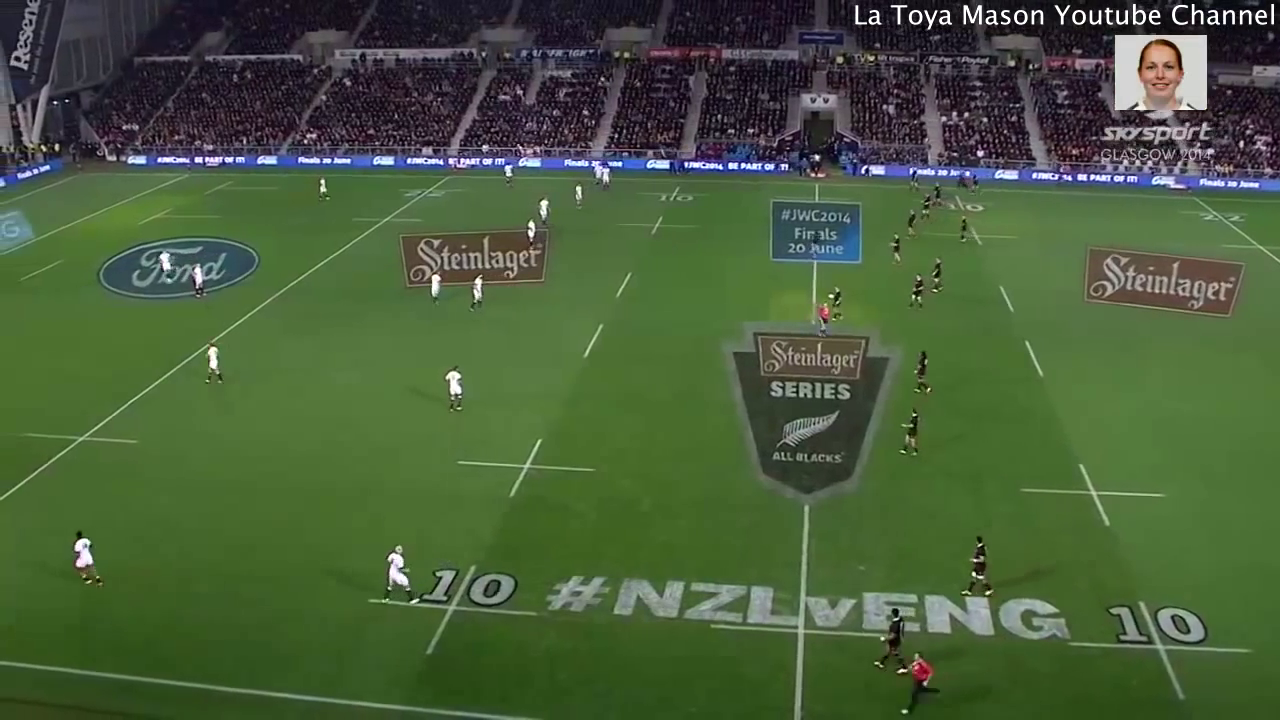10_metre: (1058, 596, 1254, 705), (375, 560, 543, 659), (1014, 458, 1172, 528), (454, 436, 601, 499), (921, 217, 1021, 251), (916, 194, 999, 217), (617, 213, 703, 234), (633, 186, 713, 205)
ball: (826, 291, 837, 300)
player: (898, 650, 948, 720), (373, 540, 423, 609), (64, 525, 113, 589), (958, 535, 1002, 600), (873, 605, 908, 678), (199, 337, 236, 391), (895, 407, 926, 459), (441, 363, 468, 416), (912, 347, 935, 396), (466, 270, 487, 312), (907, 272, 927, 311), (424, 270, 444, 306), (928, 255, 946, 295), (828, 284, 846, 324), (534, 196, 551, 232), (888, 232, 905, 268), (315, 173, 334, 205), (815, 298, 830, 338), (521, 214, 539, 245), (502, 160, 519, 192), (903, 207, 918, 241), (956, 214, 970, 243), (930, 181, 945, 207), (573, 179, 585, 211), (968, 172, 983, 196), (907, 166, 920, 192), (918, 193, 931, 219), (599, 168, 613, 191), (593, 164, 604, 187)
